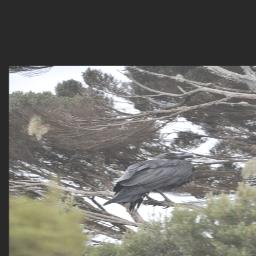Crow: (103, 152, 196, 214)
